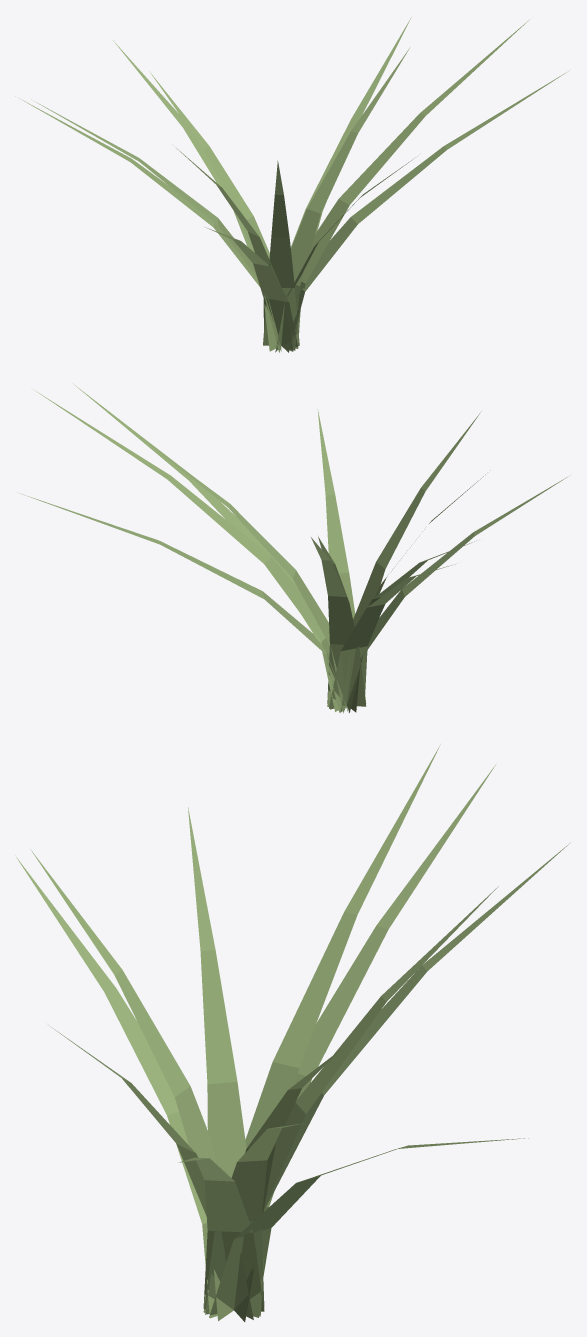
The model's file is grass.glb.
The picture shows the model from 3 angles, top to bottom: view 1: azimuth 30°, elevation 25°; view 2: azimuth 150°, elevation 25°; view 3: azimuth 270°, elevation 25°; orthographic projection. The views are drawn at different scales.
Visible parts, largest first — view 1: grass; view 2: grass; view 3: grass.
Boxes of the visible parts, x1,y1,x2,y2 form: grass: (15,17,569,352); grass: (19,385,567,713); grass: (15,744,570,1321).
Bounding box in the file's own units: 0.5822 × 0.2982 × 0.3644.
